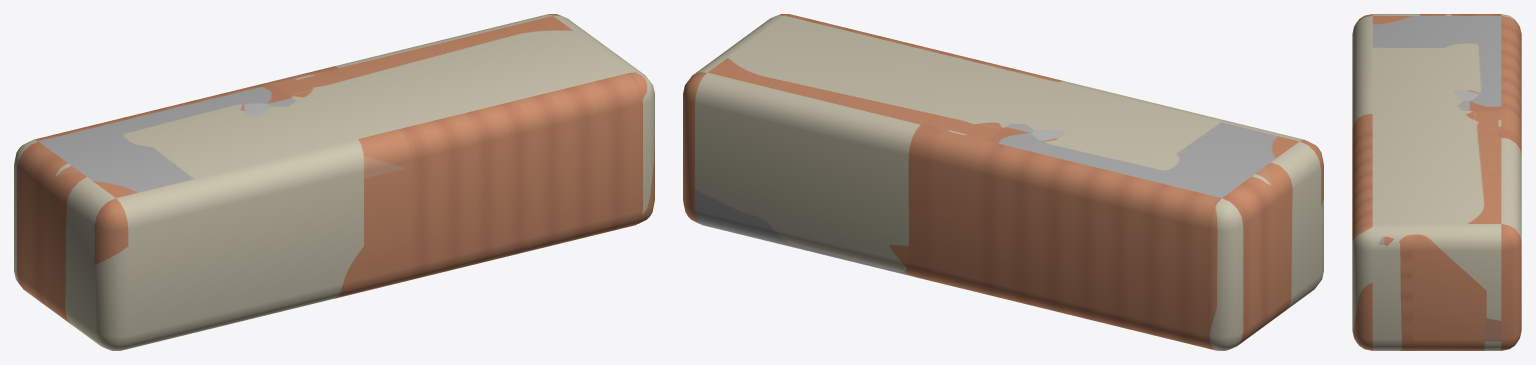
Rendered from Mesh_Enviro_GlacedDonut_Desk.fbx.
3 views of the same model, side by side, from view 1: azimuth 30°, elevation 25°; view 2: azimuth 150°, elevation 25°; view 3: azimuth 270°, elevation 25° (orthographic). The views are drawn at different scales.
Visible parts, largest first — view 1: glaced_desk; view 2: glaced_desk; view 3: glaced_desk.
Part boxes in pixels (left/top/right/bottom): glaced_desk: left=14, top=14, right=654, bottom=350; glaced_desk: left=683, top=14, right=1323, bottom=350; glaced_desk: left=1352, top=14, right=1521, bottom=350.
Bounding box in the file's own units: 116 × 29.94 × 36.72.
